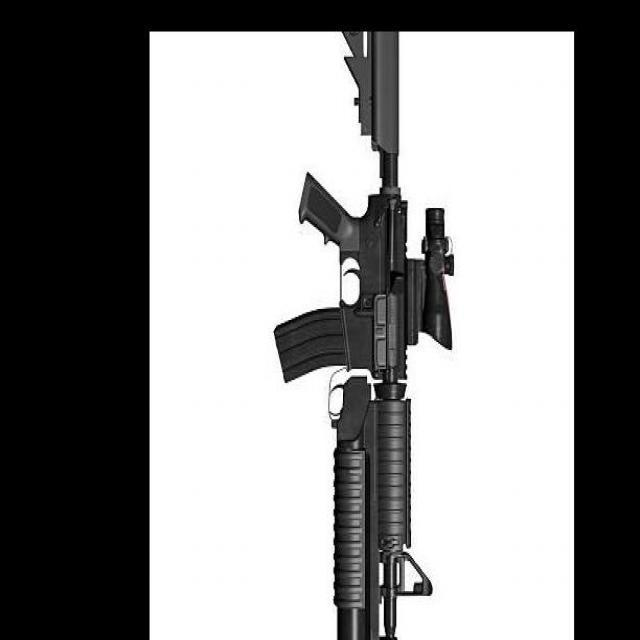weapon: (271, 32, 455, 640)
